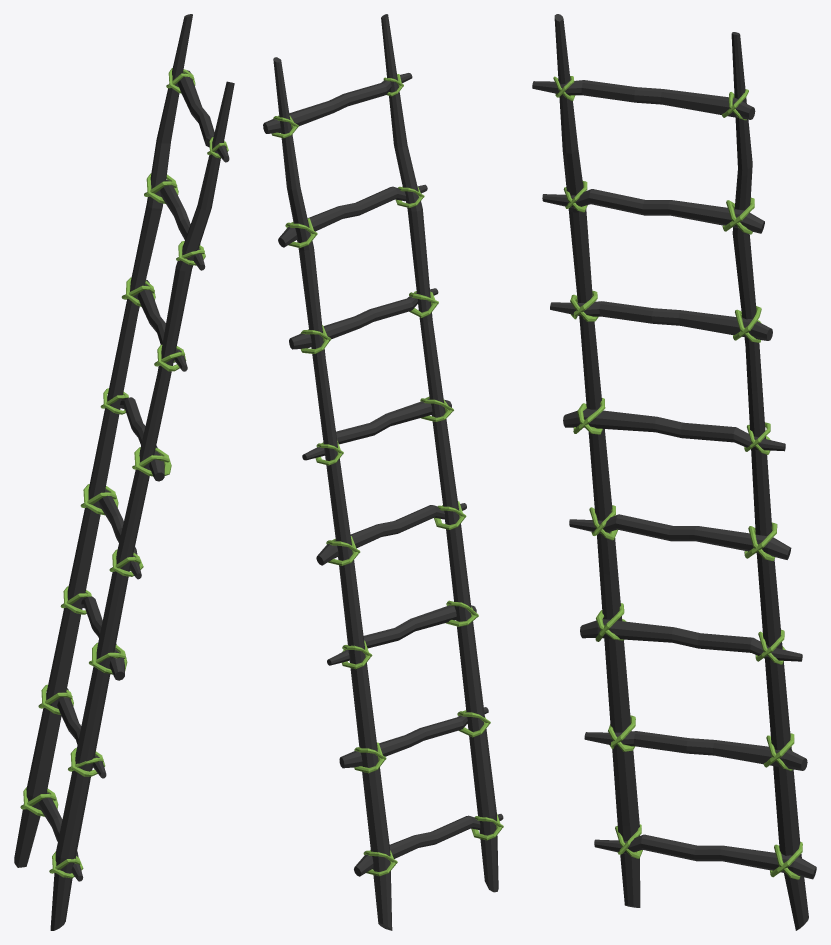
Rendered from ladder.glb.
3 renders of one model, left to right at view 1: azimuth 30°, elevation 25°; view 2: azimuth 150°, elevation 25°; view 3: azimuth 270°, elevation 25°, orthographic. The views are drawn at different scales.
Parts seen in each view (by area): view 1: Ladder; view 2: Ladder; view 3: Ladder.
Boxes of the visible parts, x1,y1,x2,y2 form: Ladder: (14,14,234,930); Ladder: (263,14,503,930); Ladder: (532,14,816,930).
Size of the model in its own units: 1.4 by 5.85 by 1.54.
Materials: 2 (2 with a texture image).
